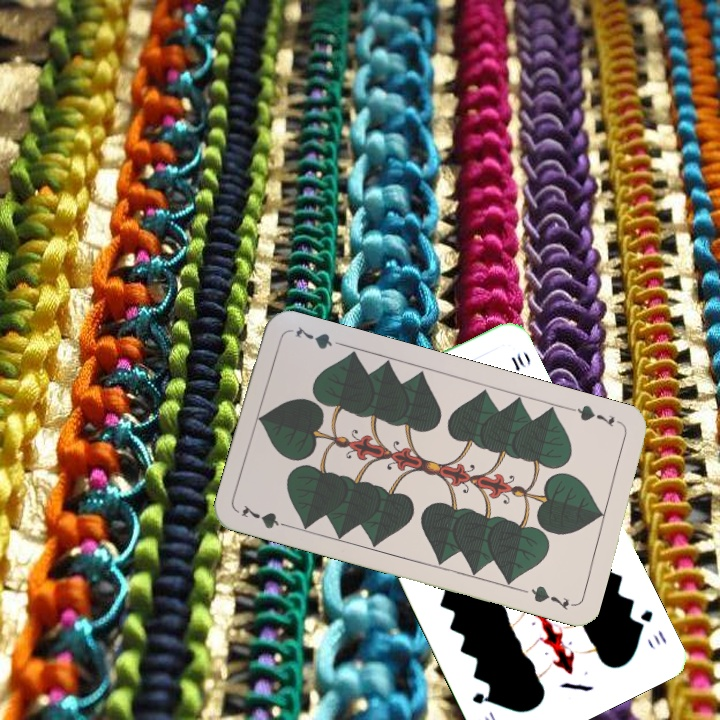G10: (631, 606, 670, 648)
G7: (238, 500, 295, 532), (567, 400, 617, 430)
